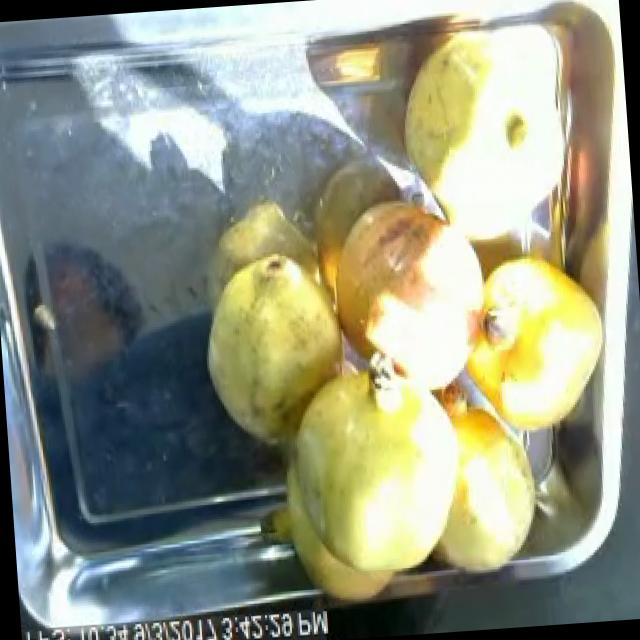fruit: (232, 342, 490, 624), (377, 0, 592, 267), (308, 166, 516, 414), (438, 220, 628, 460), (186, 231, 365, 460)
